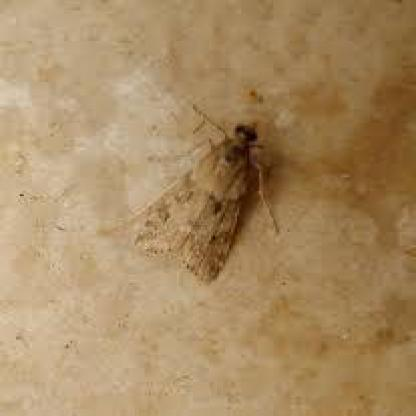Hellula undalis: (129, 94, 289, 291)
